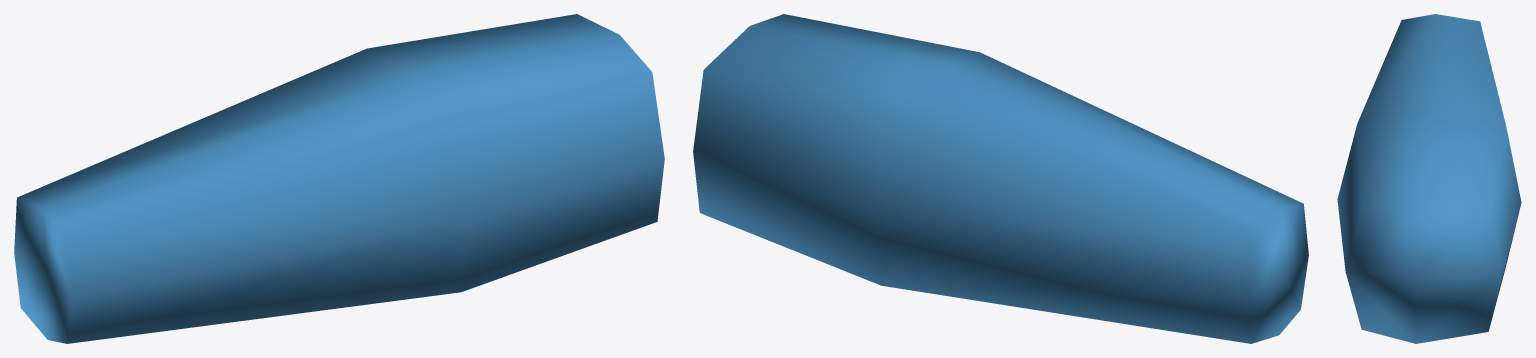
File: Driver_Arm_01B.fbx
3 renders of one model, left to right at view 1: azimuth 30°, elevation 25°; view 2: azimuth 150°, elevation 25°; view 3: azimuth 270°, elevation 25°, orthographic. The views are drawn at different scales.
Parts seen in each view (by area): view 1: Driver_Arm_01B; view 2: Driver_Arm_01B; view 3: Driver_Arm_01B.
Part boxes in pixels (left/top/right/bottom): Driver_Arm_01B: left=14, top=14, right=664, bottom=343; Driver_Arm_01B: left=693, top=14, right=1308, bottom=343; Driver_Arm_01B: left=1337, top=14, right=1521, bottom=343.
Size of the model in its own units: 28.15 by 9.87 by 9.78.
